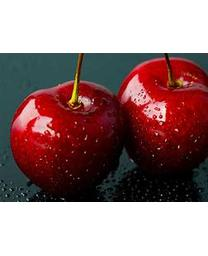cherry: (11, 81, 131, 192), (115, 56, 205, 175)
